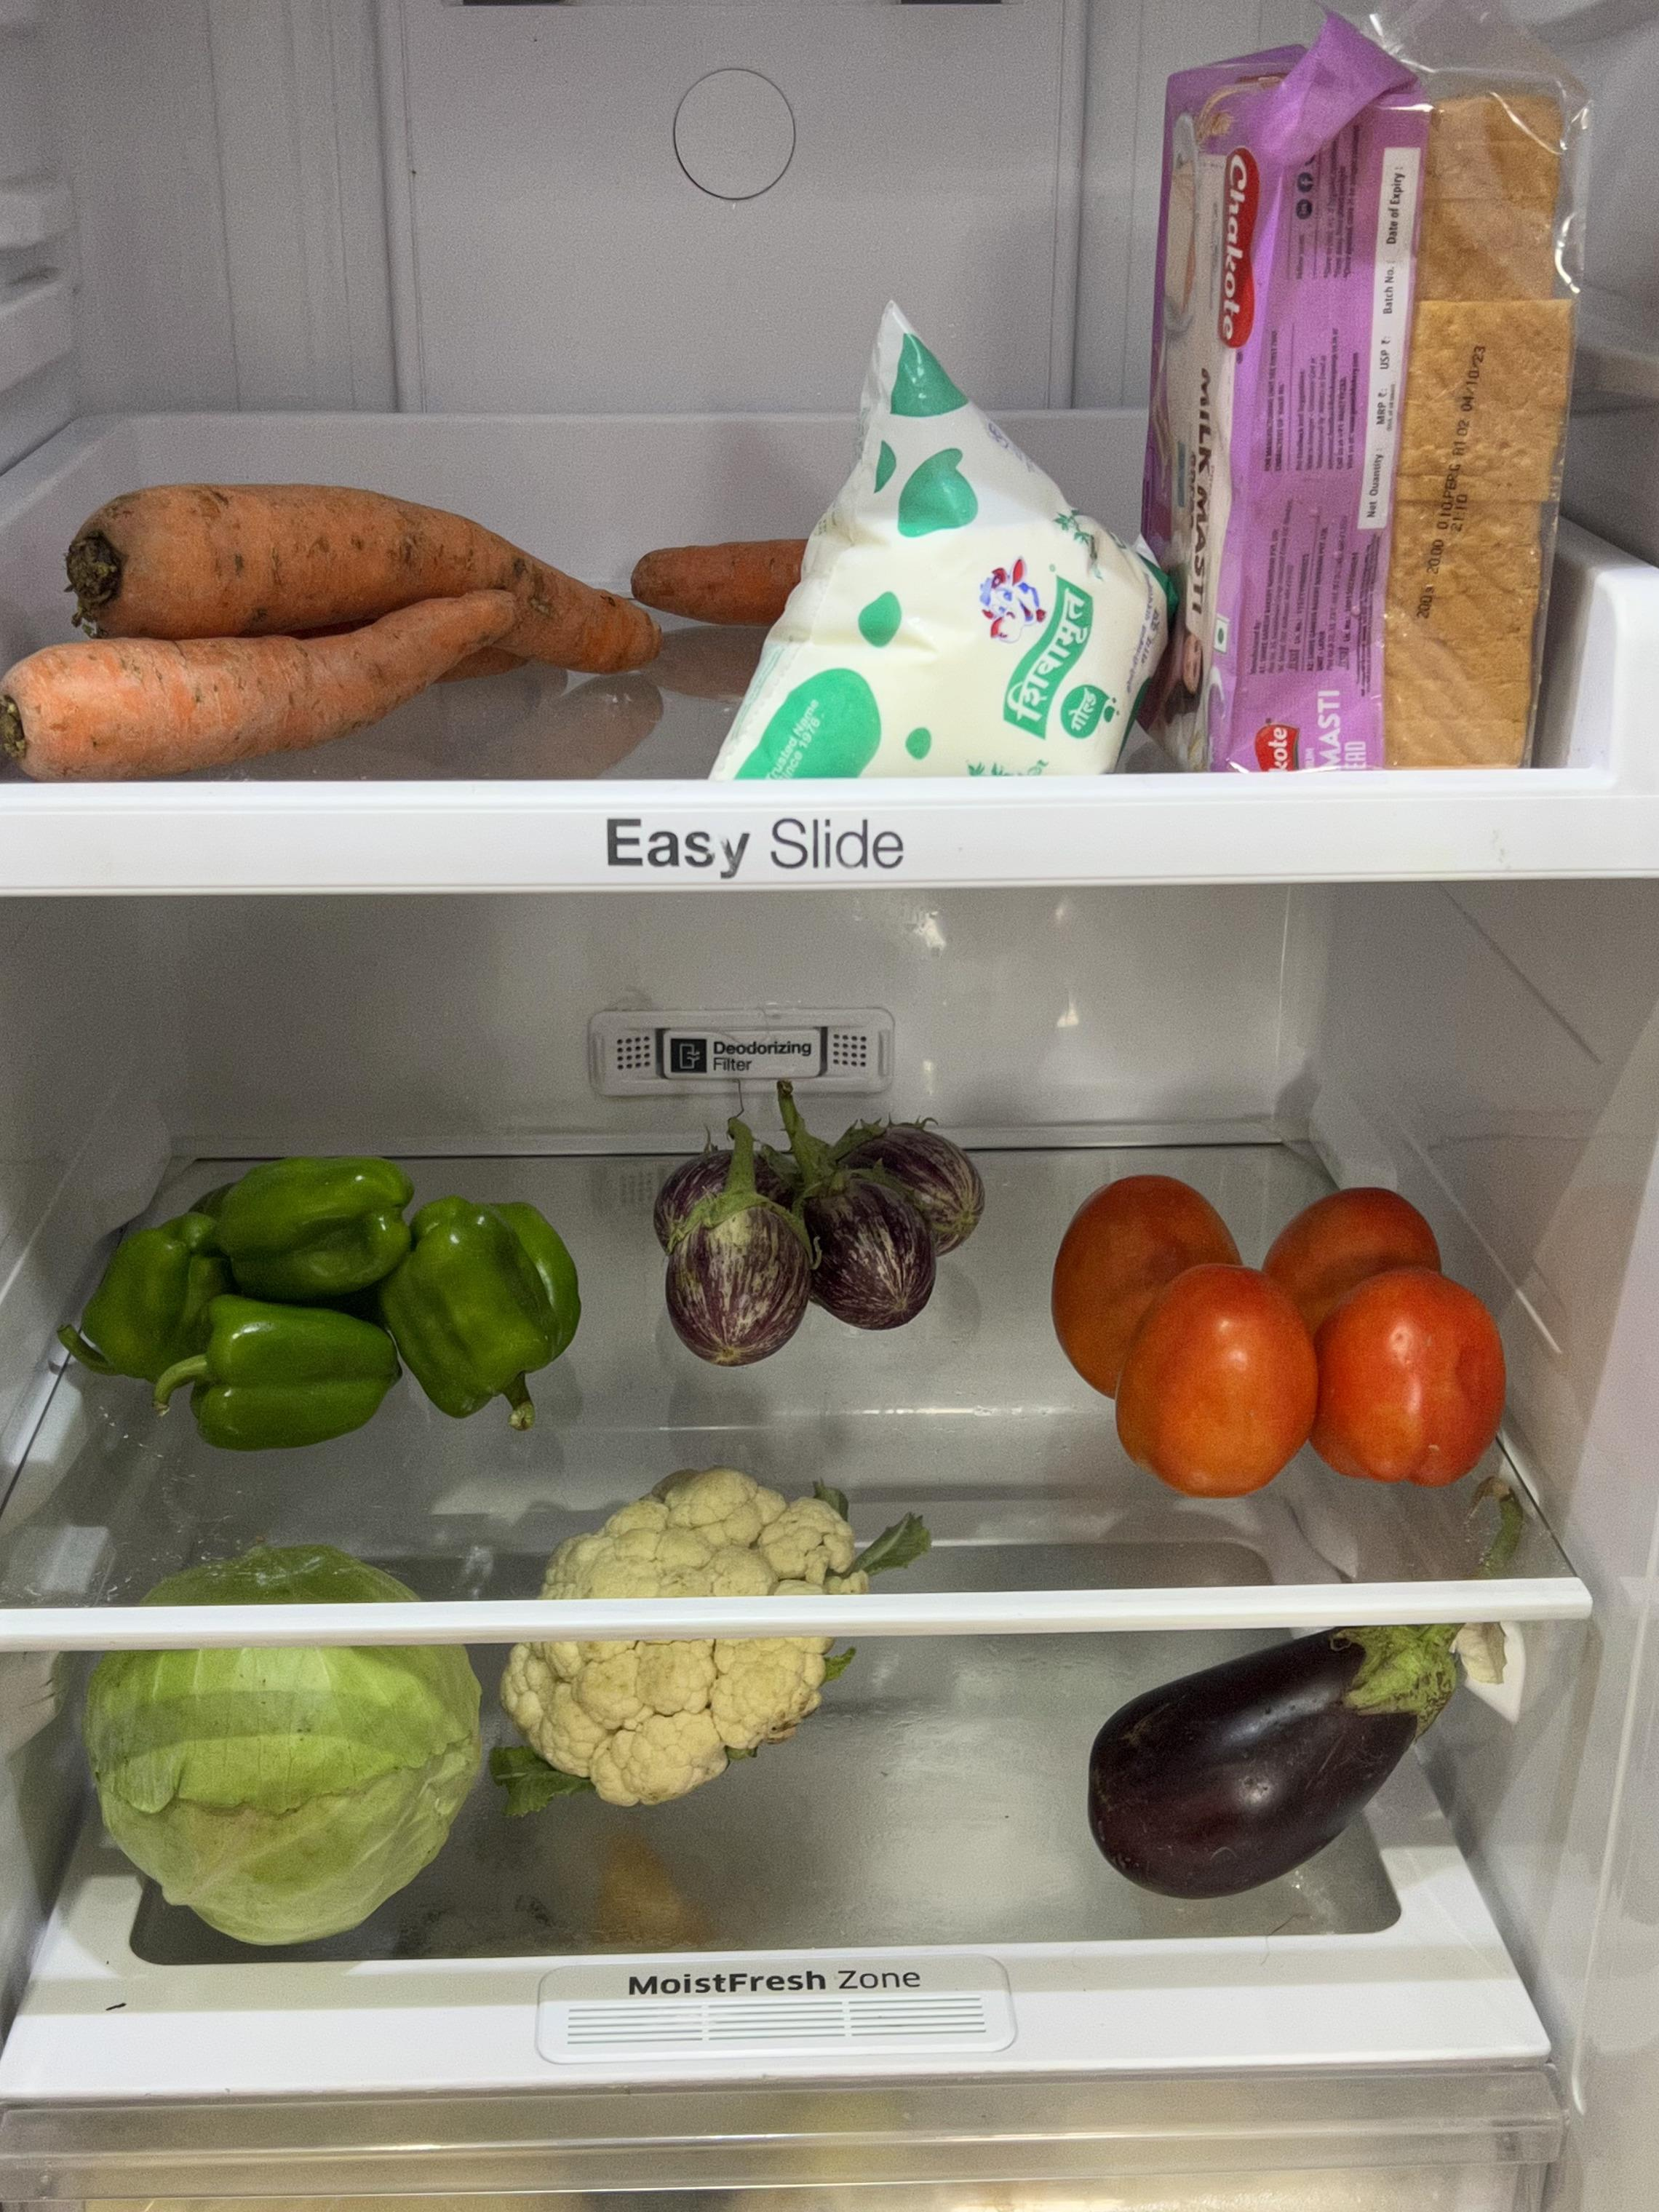bread: (1164, 59, 1556, 763)
bringal: (1042, 1627, 1480, 1898), (652, 1103, 988, 1357)
cabbage: (66, 1557, 493, 1933)
capsicum: (80, 1162, 575, 1440)
carrots: (0, 463, 666, 775)
cauliflower: (521, 1489, 884, 1791)
milk: (721, 314, 1152, 784)
tomato: (1053, 1172, 1509, 1500)
